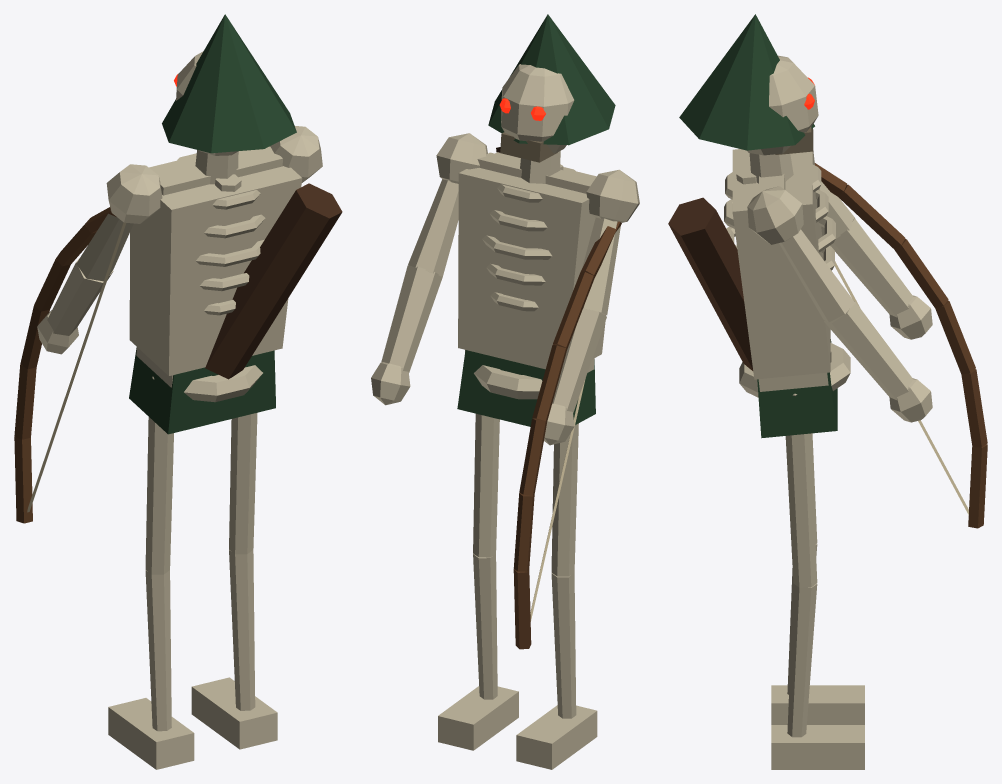
The model's file is skeleton_archer.glb.
3 renders of one model, left to right at view 1: azimuth 30°, elevation 25°; view 2: azimuth 150°, elevation 25°; view 3: azimuth 270°, elevation 25°, orthographic. The views are drawn at different scales.
Parts seen in each view (by area): view 1: torso, head, leg_l, leg_r, arm_l, offhand, arm_r; view 2: torso, head, leg_r, leg_l, arm_r, offhand, arm_l; view 3: torso, head, leg_r, arm_r, offhand, arm_l, leg_l.
Boxes of the visible parts, x1,y1,x2,y2 form: torso: (129, 146, 342, 434); head: (162, 14, 296, 184); leg_l: (108, 417, 194, 769); leg_r: (191, 412, 277, 749); arm_l: (37, 164, 162, 354); offhand: (14, 207, 126, 523); arm_r: (269, 126, 322, 182); torso: (457, 147, 606, 426); head: (488, 14, 615, 183); leg_r: (438, 413, 518, 750); leg_l: (516, 423, 597, 769); arm_r: (371, 133, 487, 405); offhand: (513, 221, 621, 649); arm_l: (544, 169, 639, 445); torso: (668, 149, 850, 438); head: (679, 14, 818, 183); leg_r: (771, 433, 864, 769); arm_r: (747, 186, 932, 422); offhand: (814, 163, 987, 528); arm_l: (818, 181, 932, 339); leg_l: (771, 433, 864, 724).
Bounding box in the file's own units: 0.5538 × 1.86 × 0.7419.
